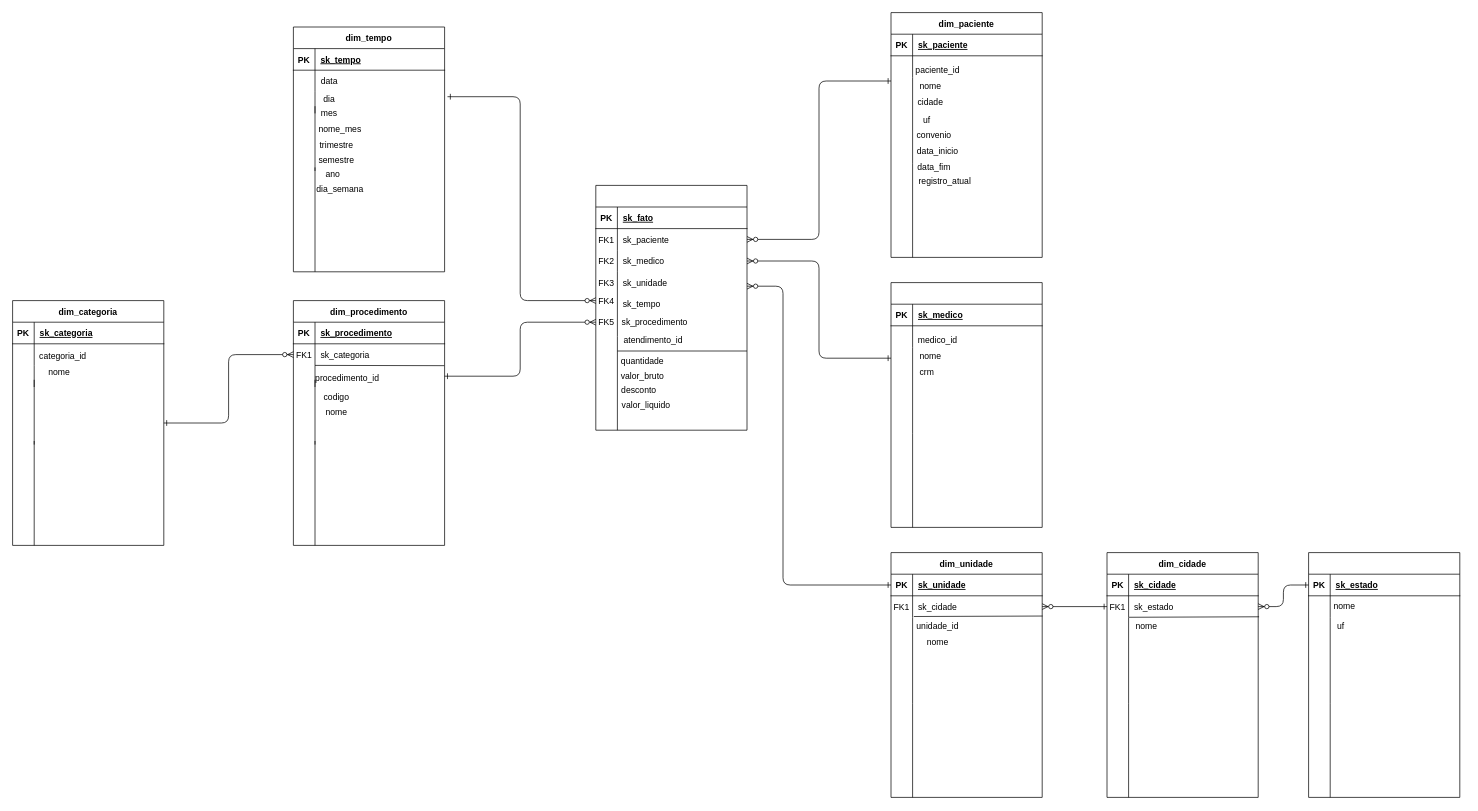
This 1478x811 diagram has some shape labels left out. Each missing label, with the box of its shape:
dim_estado: (1308, 552, 1460, 797)
dim_medico: (890, 282, 1042, 527)
fato_atendimento: (595, 185, 747, 430)
